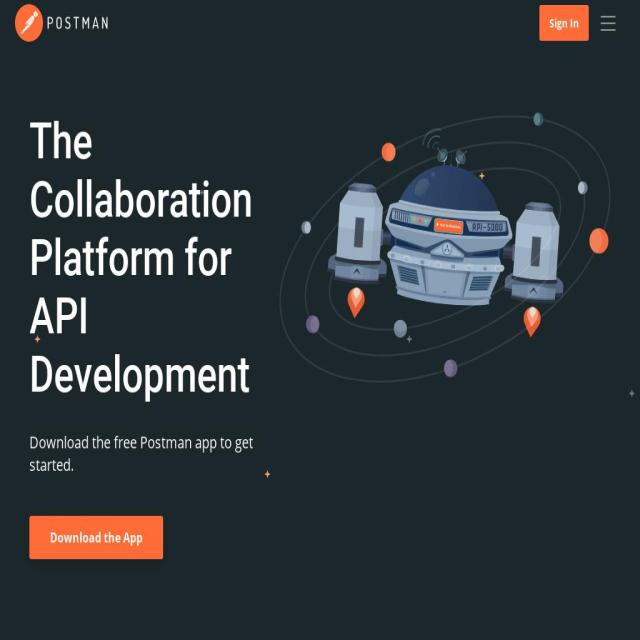button: (29, 516, 163, 559), (15, 0, 118, 46), (539, 5, 589, 41), (591, 7, 625, 39)
heading: (29, 113, 260, 404)
image: (280, 112, 610, 382), (15, 4, 108, 42), (598, 10, 618, 36)
text: (29, 431, 260, 476)
